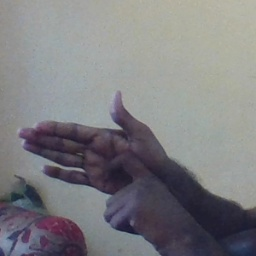R: (18, 87, 160, 230)
